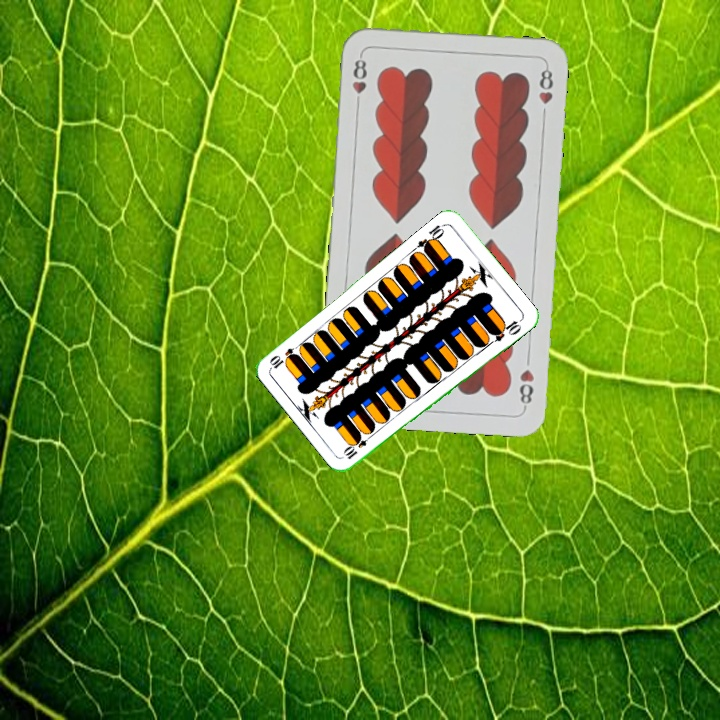E10: (413, 220, 448, 254), (340, 429, 375, 462)
H8: (348, 51, 370, 110), (515, 365, 537, 411)
